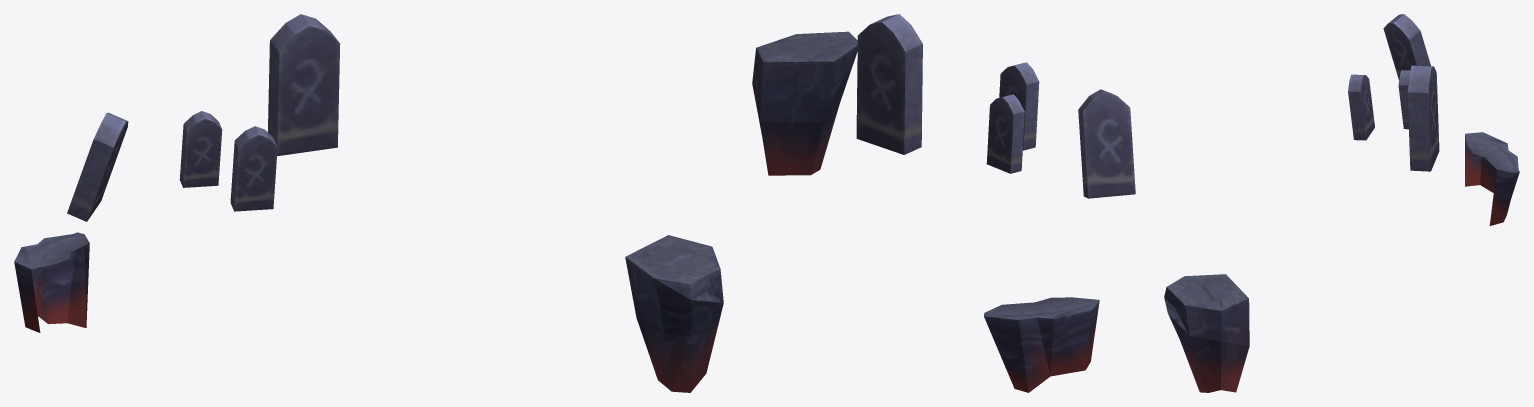
File: Area08_9.fbx
The picture shows the model from 3 angles, left to right: view 1: azimuth 30°, elevation 25°; view 2: azimuth 150°, elevation 25°; view 3: azimuth 270°, elevation 25°; orthographic projection. The views are drawn at different scales.
Parts seen in each view (by area): view 1: Area08_9; view 2: Area08_9; view 3: Area08_9.
Boxes of the visible parts, bbox=[...] form: Area08_9: bbox=[14, 14, 723, 392]; Area08_9: bbox=[752, 14, 1135, 392]; Area08_9: bbox=[1164, 14, 1519, 392].
Size of the model in its own units: 1079 by 630 by 844.
